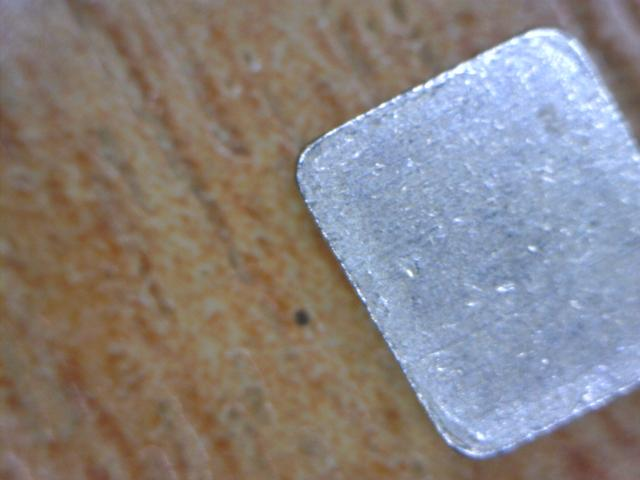ok: (290, 24, 632, 466)
